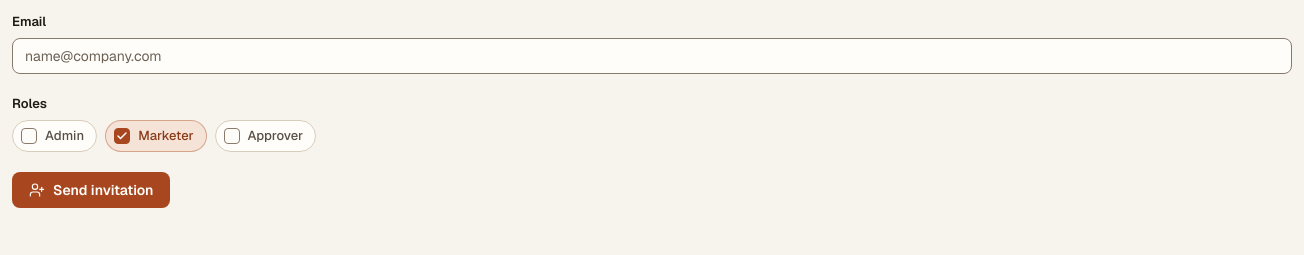
Test: sends the email and the chosen roles
The image size is (1304, 255).
Step 1. Type "priya@example.com" into the field labelled "Email" → coordinates (652, 56), box left=12, top=38, right=1292, bottom=74
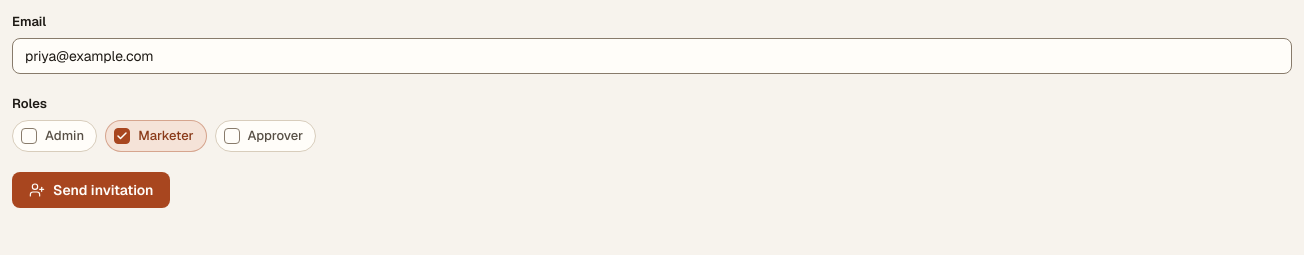
Step 2. Click the button "Send invitation" → coordinates (91, 190), box left=12, top=172, right=170, bottom=208
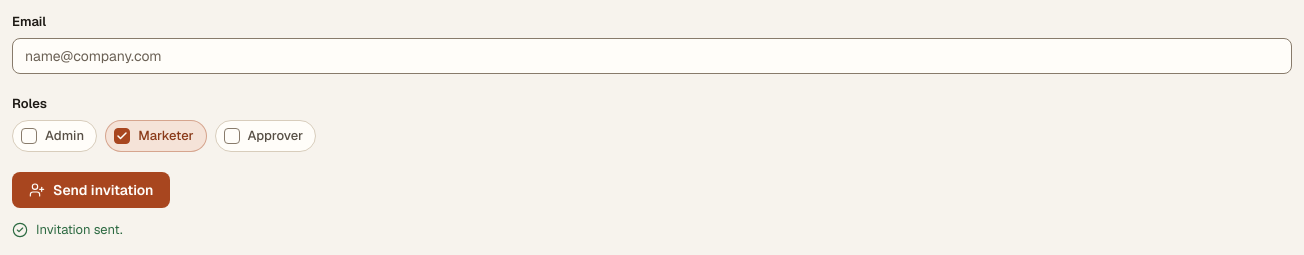
Expected: the message reads "Invitation sent.", left=36, top=221, right=123, bottom=238
